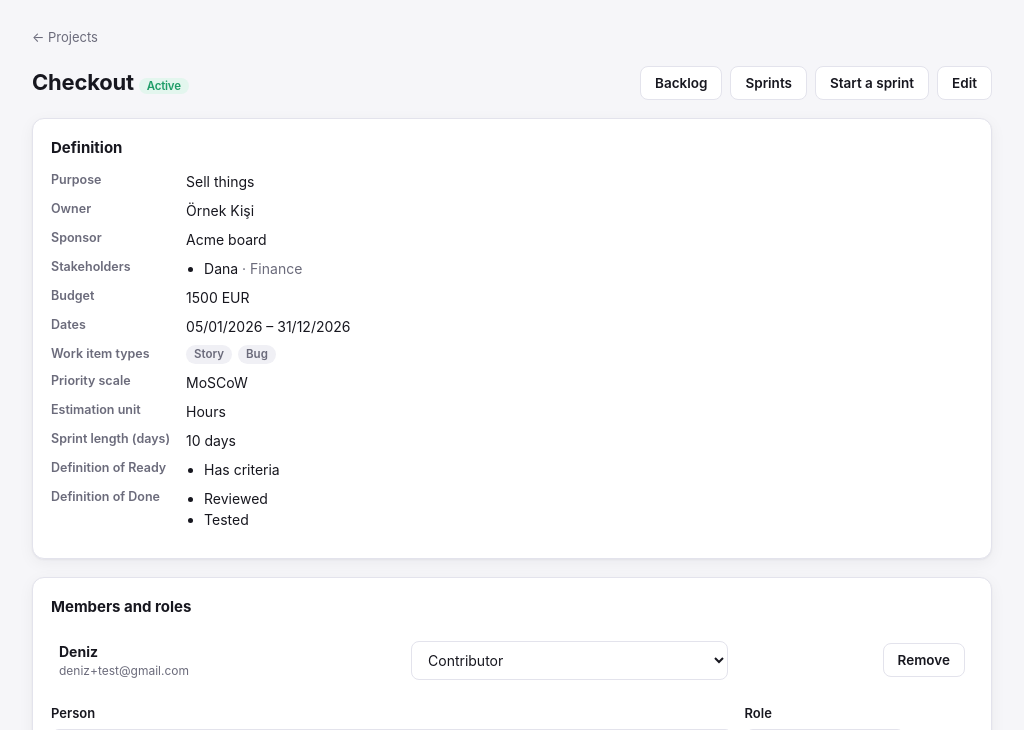
Scenario: the project page: definition and status › lets a manager (not an archiver) edit but not archive
Step 1. Click the button "Edit" → point(965, 82), box [937,66,992,100]
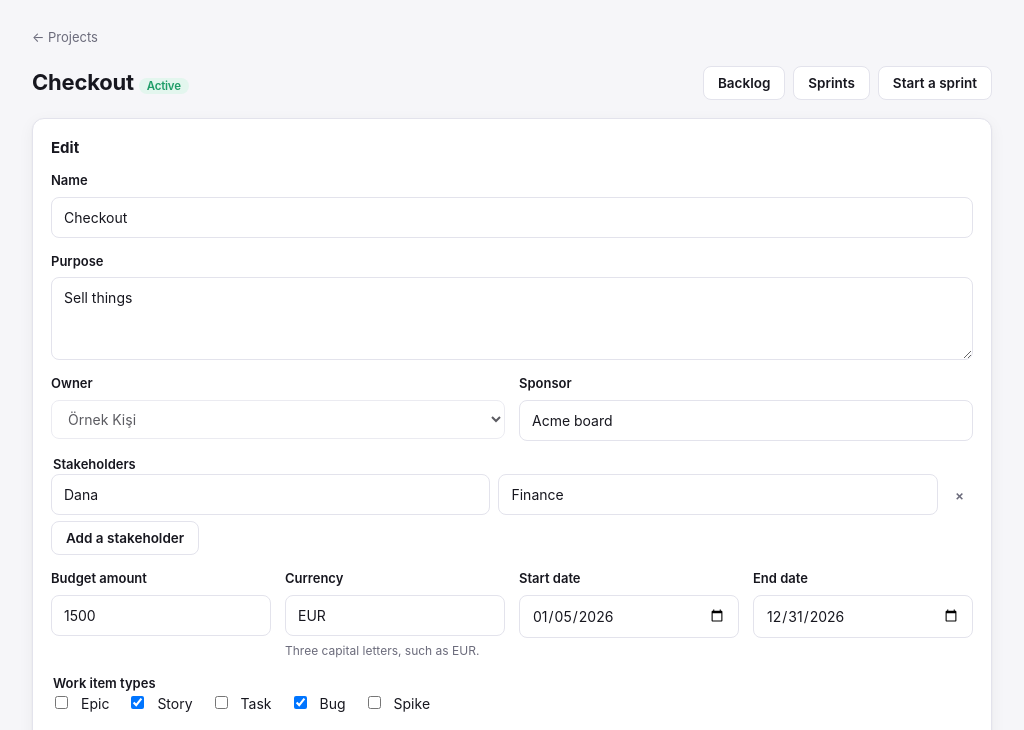
Check: the dropdown labelled "Owner" is disabled, box [51,400,505,438]
